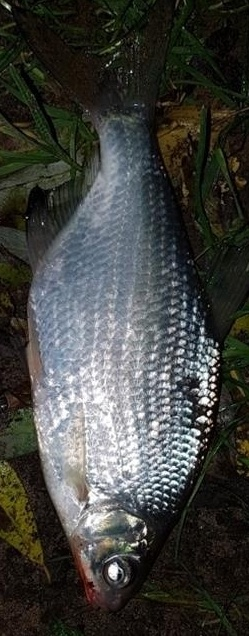Blicca bjoerkna: (20, 20, 229, 616)
